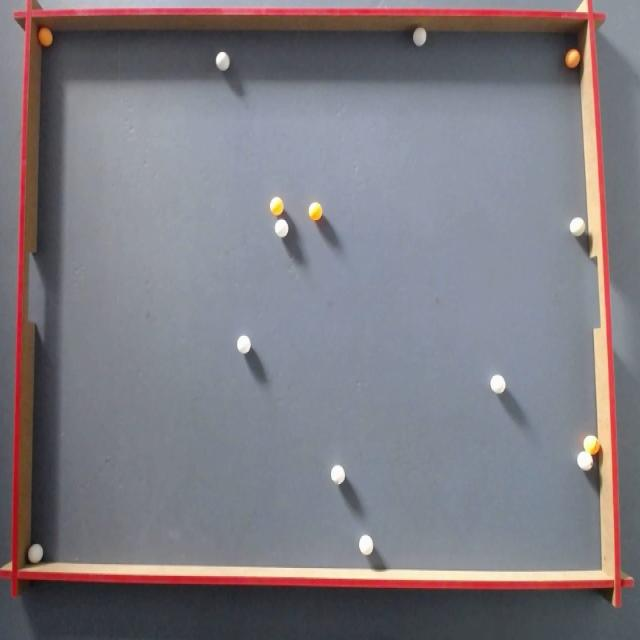orange_ball: (584, 435, 599, 455), (565, 49, 580, 68), (38, 27, 52, 46), (309, 202, 322, 220), (270, 197, 283, 215)
white_ball: (28, 543, 44, 564), (490, 374, 506, 394), (577, 451, 593, 471), (359, 535, 373, 555), (237, 335, 251, 354), (570, 217, 584, 236), (274, 219, 288, 237), (413, 27, 426, 46), (216, 51, 229, 70), (331, 465, 344, 484)
